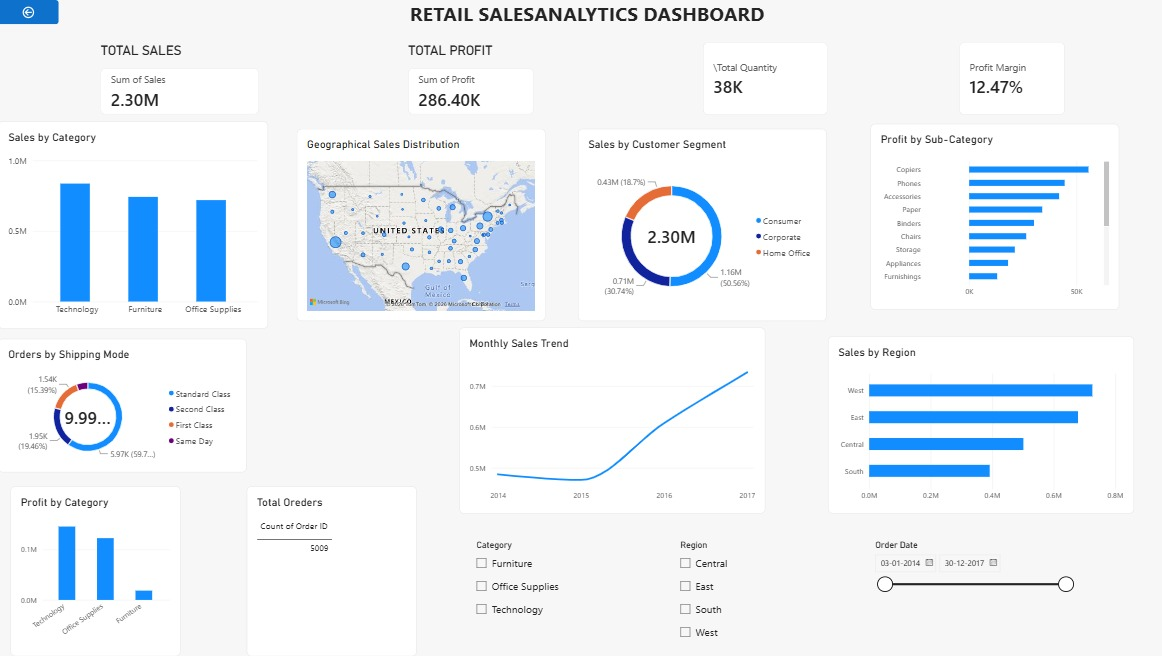

The dashboard page shown, as its layout file describes it:
{"tool":"powerbi","page":{"name":"Page 1","canvas":[1920,1080],"ordinal":0},"visuals":[{"type":"cardVisual","title":"TOTAL SALES","fields":{"Data":["Sum(Sheet1.Sales)"]},"box":[168.8,70,261.4,119.4],"z":0},{"type":"cardVisual","title":"TOTAL PROFIT","fields":{"Data":["Sum(Sheet1.Profit)","Sum(Sheet1.Profit)","Sum(Sheet1.Profit)"]},"box":[675.1,70,207.9,119.4],"z":1000},{"type":"actionButton","box":[0,0,100,40],"z":2000},{"type":"tableEx","title":"Total Oreders","fields":{"Values":["Sheet1.Order ID"]},"box":[409.6,800.7,280,280],"z":3000},{"type":"cardVisual","fields":{"Data":["Sheet1.\\Total Quantity"]},"box":[1160.9,70,205.8,119.4],"z":4000},{"type":"cardVisual","fields":{"Data":["Sheet1.Profit Margin"]},"box":[1582.9,70,175,119.4],"z":5000},{"type":"clusteredColumnChart","title":"Sales by Category","fields":{"Category":["Sheet1.Category"],"Y":["Sum(Sheet1.Sales)"]},"box":[0,199.7,444.6,341.7],"z":6000},{"type":"clusteredBarChart","title":"Sales by Region","fields":{"Category":["Sheet1.Region"],"Y":["Sum(Sheet1.Sales)"]},"box":[1366.7,553.7,504.3,292.3],"z":7000},{"type":"lineChart","title":"Monthly Sales Trend","fields":{"Category":["Sheet1.Order Date.Variation.Date Hierarchy.Year","Sheet1.Order Date.Variation.Date Hierarchy.Quarter","Sheet1.Order Date.Variation.Date Hierarchy.Month","Sheet1.Order Date.Variation.Date Hierarchy.Day"],"Y":["Sum(Sheet1.Sales)"]},"box":[759.5,539.3,504.3,306.7],"z":8000},{"type":"donutChart","title":"Sales by Customer Segment","fields":{"Category":["Sheet1.Segment"],"Y":["Sum(Sheet1.Sales)"]},"box":[955.1,212,409.6,317],"z":9000},{"type":"clusteredColumnChart","title":"Profit by Category","fields":{"Category":["Sheet1.Category"],"Y":["Sum(Sheet1.Profit)"]},"box":[20.6,800.7,280,280],"z":9001},{"type":"map","title":"Geographical Sales Distribution","fields":{"Category":["Sheet1.State"],"Size":["Sum(Sheet1.Sales)"]},"box":[491.9,212,409.6,317],"z":9002},{"type":"clusteredBarChart","title":"Profit by Sub-Category","fields":{"Category":["Sheet1.Sub-Category"],"Y":["Sum(Sheet1.Profit)"]},"box":[1436.7,203.8,409.6,306.7],"z":9003},{"type":"donutChart","title":"Orders by Shipping Mode","fields":{"Category":["Sheet1.Ship Mode"],"Y":["CountNonNull(Sheet1.Row ID)"]},"box":[0,557.8,409.6,220.2],"z":9004},{"type":"textbox","box":[140,0,1661.1,88.5],"z":9005},{"type":"slicer","fields":{"Values":["Sheet1.Category"]},"box":[780.1,889.2,216.1,191.4],"z":9006},{"type":"slicer","fields":{"Values":["Sheet1.Region"]},"box":[1115.6,889.2,249.1,191.4],"z":9007},{"type":"slicer","fields":{"Values":["Sheet1.Order Date"]},"box":[1436.7,889.2,337.6,175],"z":9008}]}

Visuals, with their boxes in screenshot pixels (x1, y1, x2, y2), scaled from the page's 1920x1080 canvas onto the 1162x656 screenshot:
"TOTAL SALES" cardVisual: 102,43,260,115
"TOTAL PROFIT" cardVisual: 409,43,534,115
actionButton: 0,0,61,24
"Total Oreders" tableEx: 248,486,417,655
cardVisual - Sheet1.\Total Quantity: 703,43,827,115
cardVisual - Sheet1.Profit Margin: 958,43,1064,115
"Sales by Category" clusteredColumnChart: 0,121,269,329
"Sales by Region" clusteredBarChart: 827,336,1132,514
"Monthly Sales Trend" lineChart: 460,328,765,514
"Sales by Customer Segment" donutChart: 578,129,826,321
"Profit by Category" clusteredColumnChart: 12,486,182,655
"Geographical Sales Distribution" map: 298,129,546,321
"Profit by Sub-Category" clusteredBarChart: 870,124,1117,310
"Orders by Shipping Mode" donutChart: 0,339,248,473
textbox: 85,0,1090,54
slicer - Sheet1.Category: 472,540,603,655
slicer - Sheet1.Region: 675,540,826,655
slicer - Sheet1.Order Date: 870,540,1074,646
